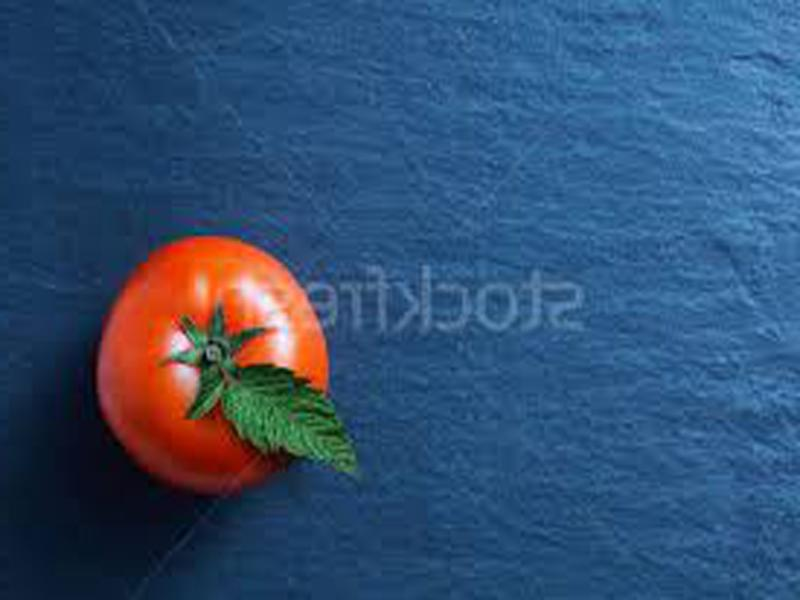Tomato: (98, 236, 331, 489)
